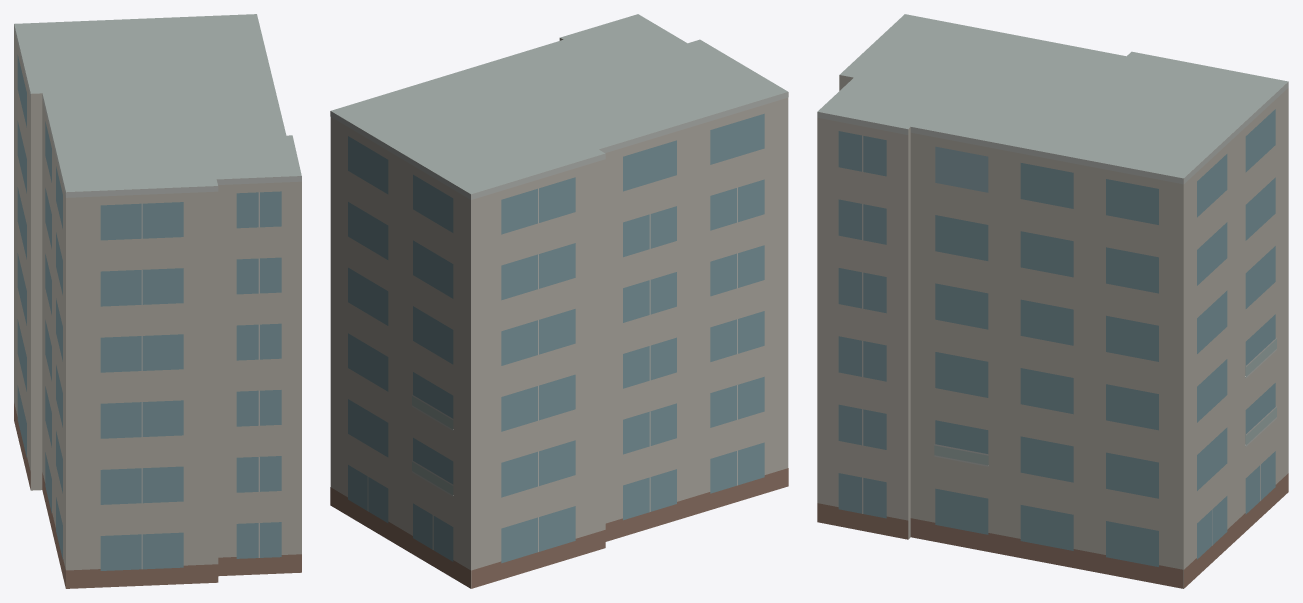
Rendered from survey-upis-33000274.glb.
3 renders of one model, left to right at view 1: azimuth 30°, elevation 25°; view 2: azimuth 150°, elevation 25°; view 3: azimuth 270°, elevation 25°, orthographic. The views are drawn at different scales.
Parts seen in each view (by area): view 1: survey-upis-33000274.tmp; view 2: survey-upis-33000274.tmp; view 3: survey-upis-33000274.tmp.
Boxes of the visible parts, x1,y1,x2,y2 form: survey-upis-33000274.tmp: (14, 14, 301, 588); survey-upis-33000274.tmp: (330, 14, 788, 588); survey-upis-33000274.tmp: (817, 14, 1288, 588).
Size of the model in its own units: 14.53 by 16.9 by 17.6.
